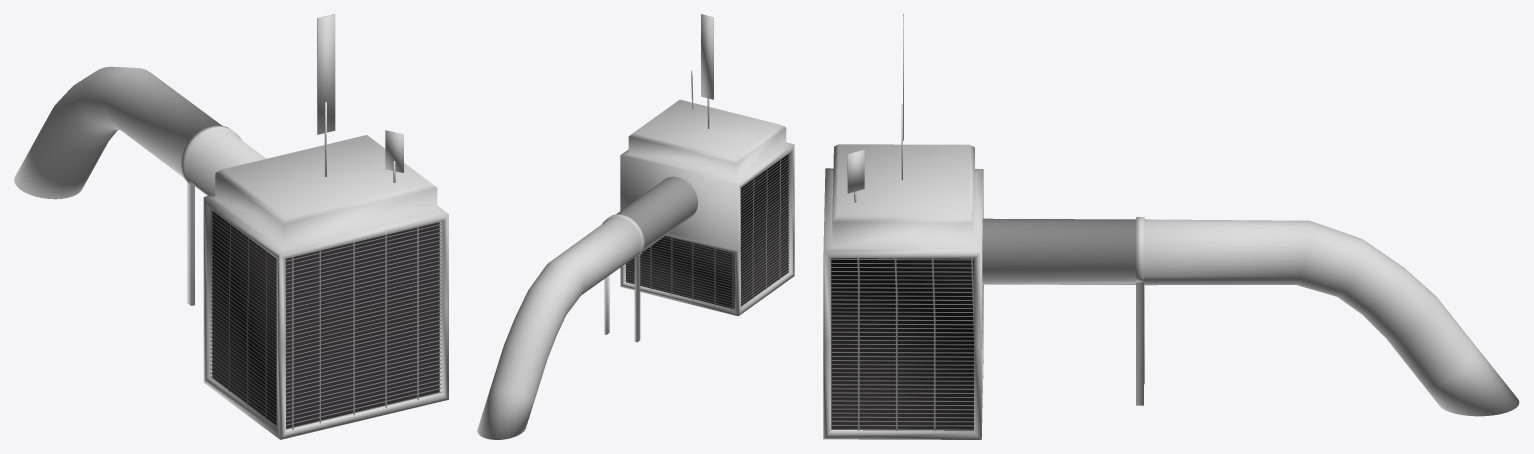
File: Rooftop Vents.005.glb
3 renders of one model, left to right at view 1: azimuth 30°, elevation 25°; view 2: azimuth 150°, elevation 25°; view 3: azimuth 270°, elevation 25°, orthographic. The views are drawn at different scales.
Parts seen in each view (by area): view 1: Rooftop Vents.005; view 2: Rooftop Vents.005; view 3: Rooftop Vents.005.
Boxes of the visible parts, x1,y1,x2,y2 form: Rooftop Vents.005: (14, 14, 448, 439); Rooftop Vents.005: (477, 14, 794, 439); Rooftop Vents.005: (823, 14, 1519, 439).
Bounding box in the file's own units: 1.71 × 3.63 × 6.01.
3 materials, 1 textured.
